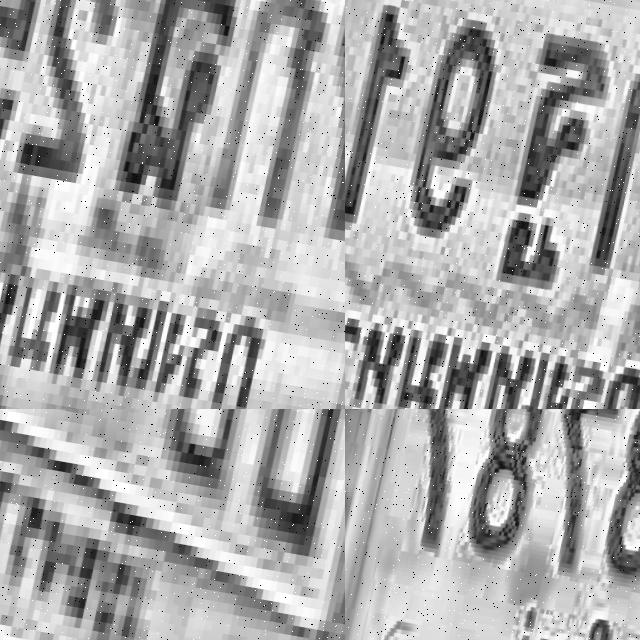license-plate: (0, 0, 345, 409), (345, 0, 640, 409), (0, 409, 345, 640), (345, 409, 640, 640)
